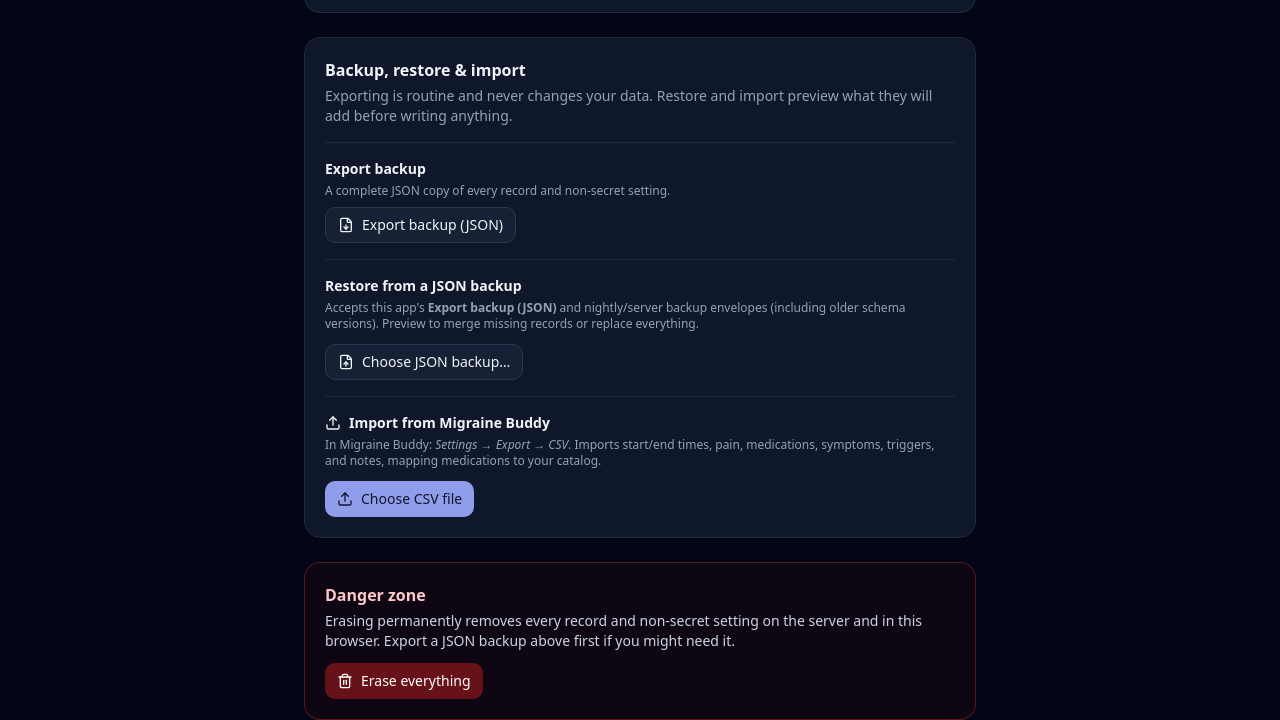
Test: Settings erase-everything outcome reporting › reports "All data erased" only after resetAll fulfills
(page scrolled)
Step 1. Click the button "Erase everything" → [404, 681], box [325,663,482,699]
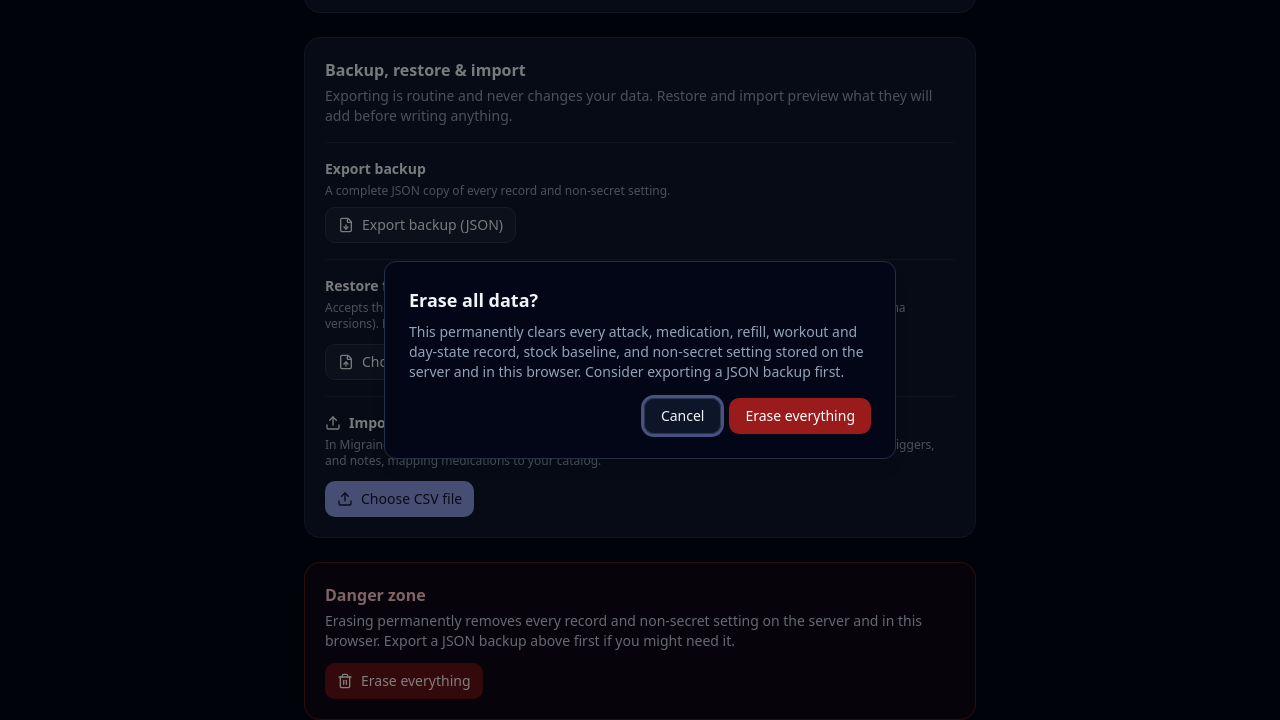
Step 2. Click the button "Erase everything" → [800, 416], box [730,398,871,434]
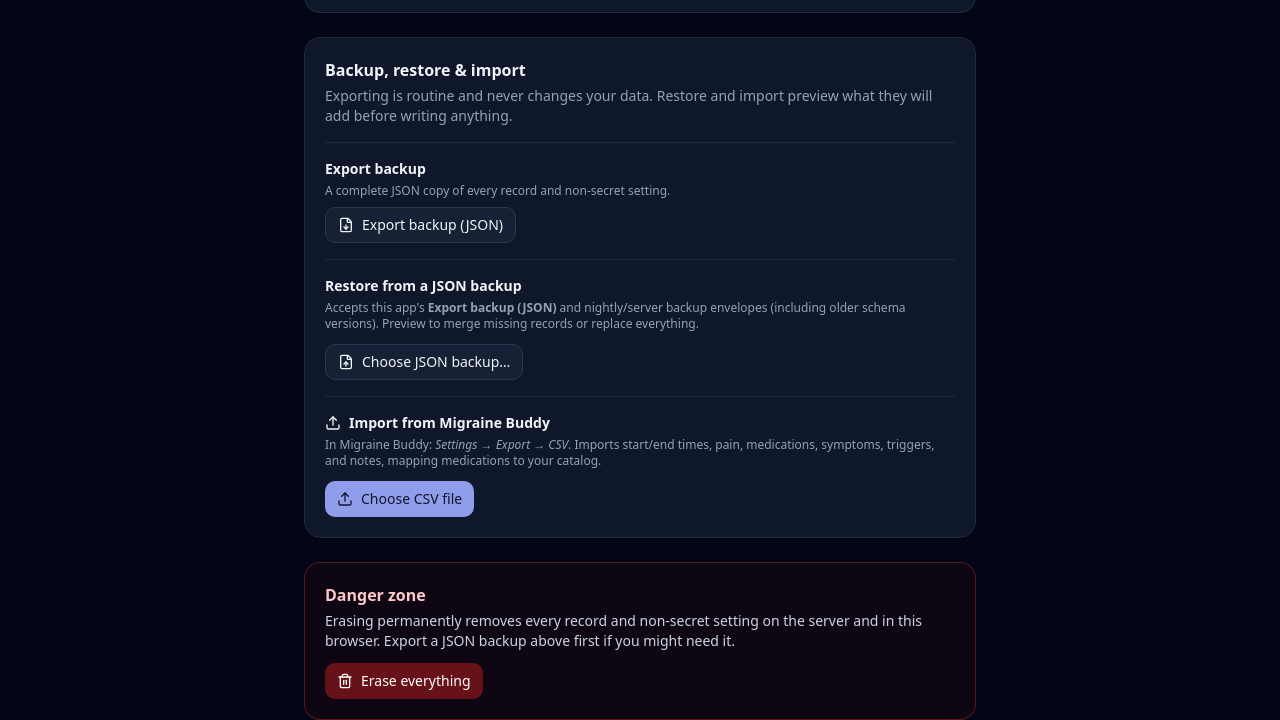
Result: the dialog is gone
